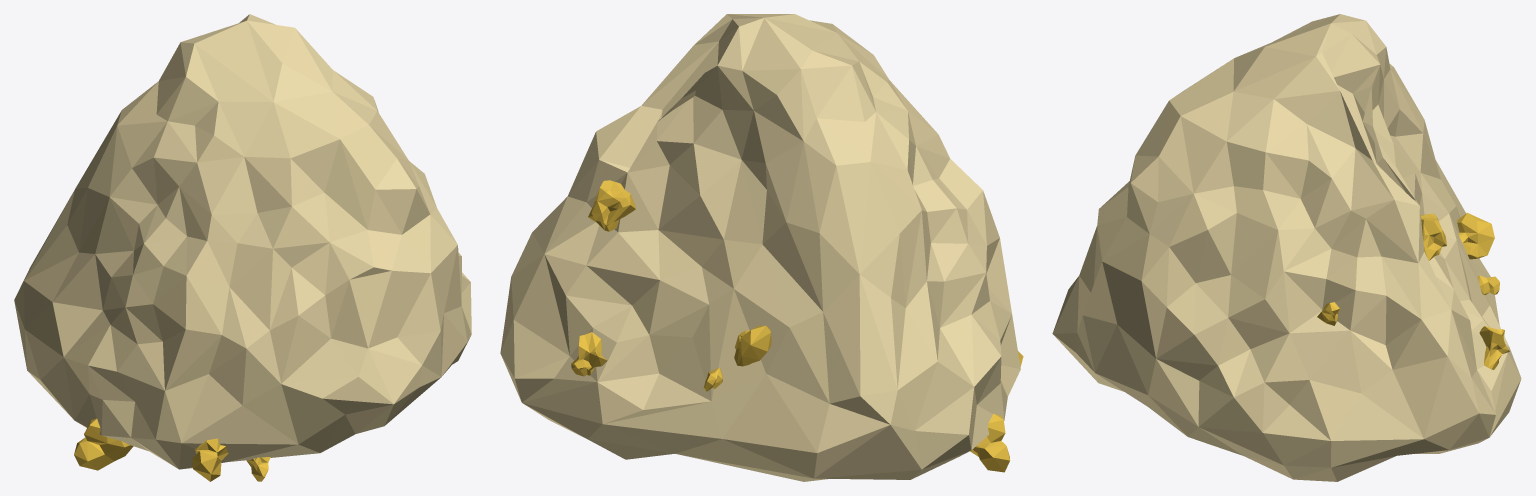
File: MetalOre (48).fbx
3 views of the same model, side by side, from view 1: azimuth 30°, elevation 25°; view 2: azimuth 150°, elevation 25°; view 3: azimuth 270°, elevation 25° (orthographic). The views are drawn at different scales.
Visible parts, largest first — view 1: Asteroid403; view 2: Asteroid403; view 3: Asteroid403.
Part boxes in pixels (<box>): Asteroid403: <box>14,14,471,481</box>; Asteroid403: <box>500,14,1023,481</box>; Asteroid403: <box>1052,14,1521,481</box>.
Size of the model in its own units: 567 by 537 by 553.
